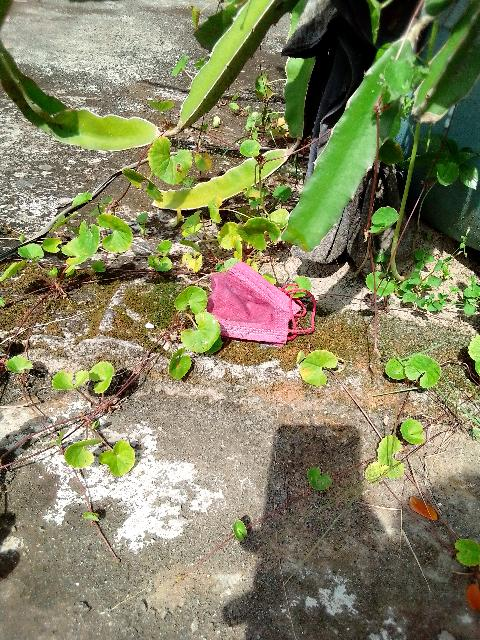mask: (211, 248, 312, 356)
